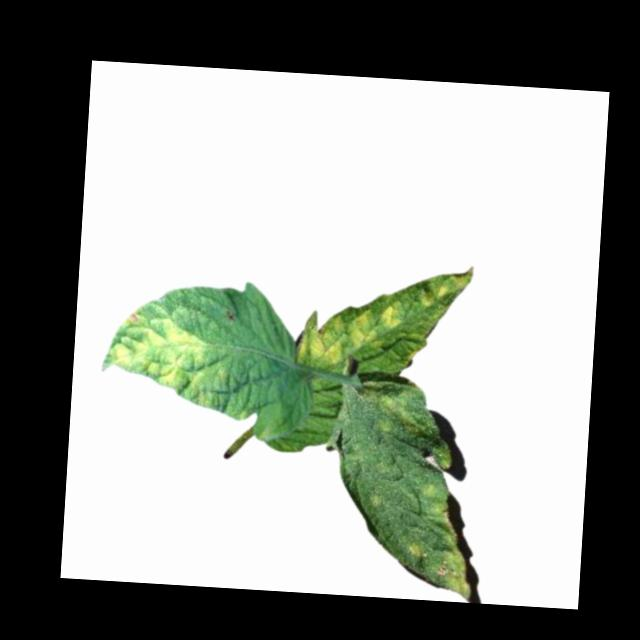Leaf_Mold: (96, 297, 228, 412), (295, 292, 403, 375), (404, 485, 479, 603), (415, 263, 474, 311)
